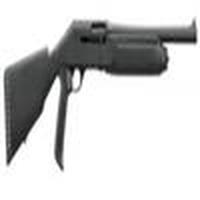gun: (3, 19, 200, 156)
